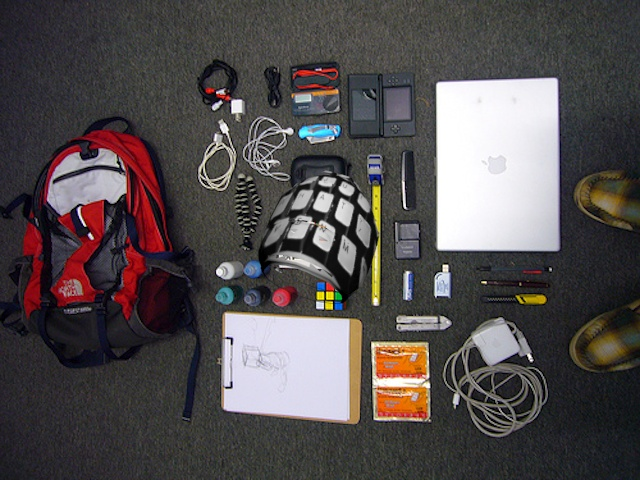bike_helmet: (257, 169, 384, 306)
